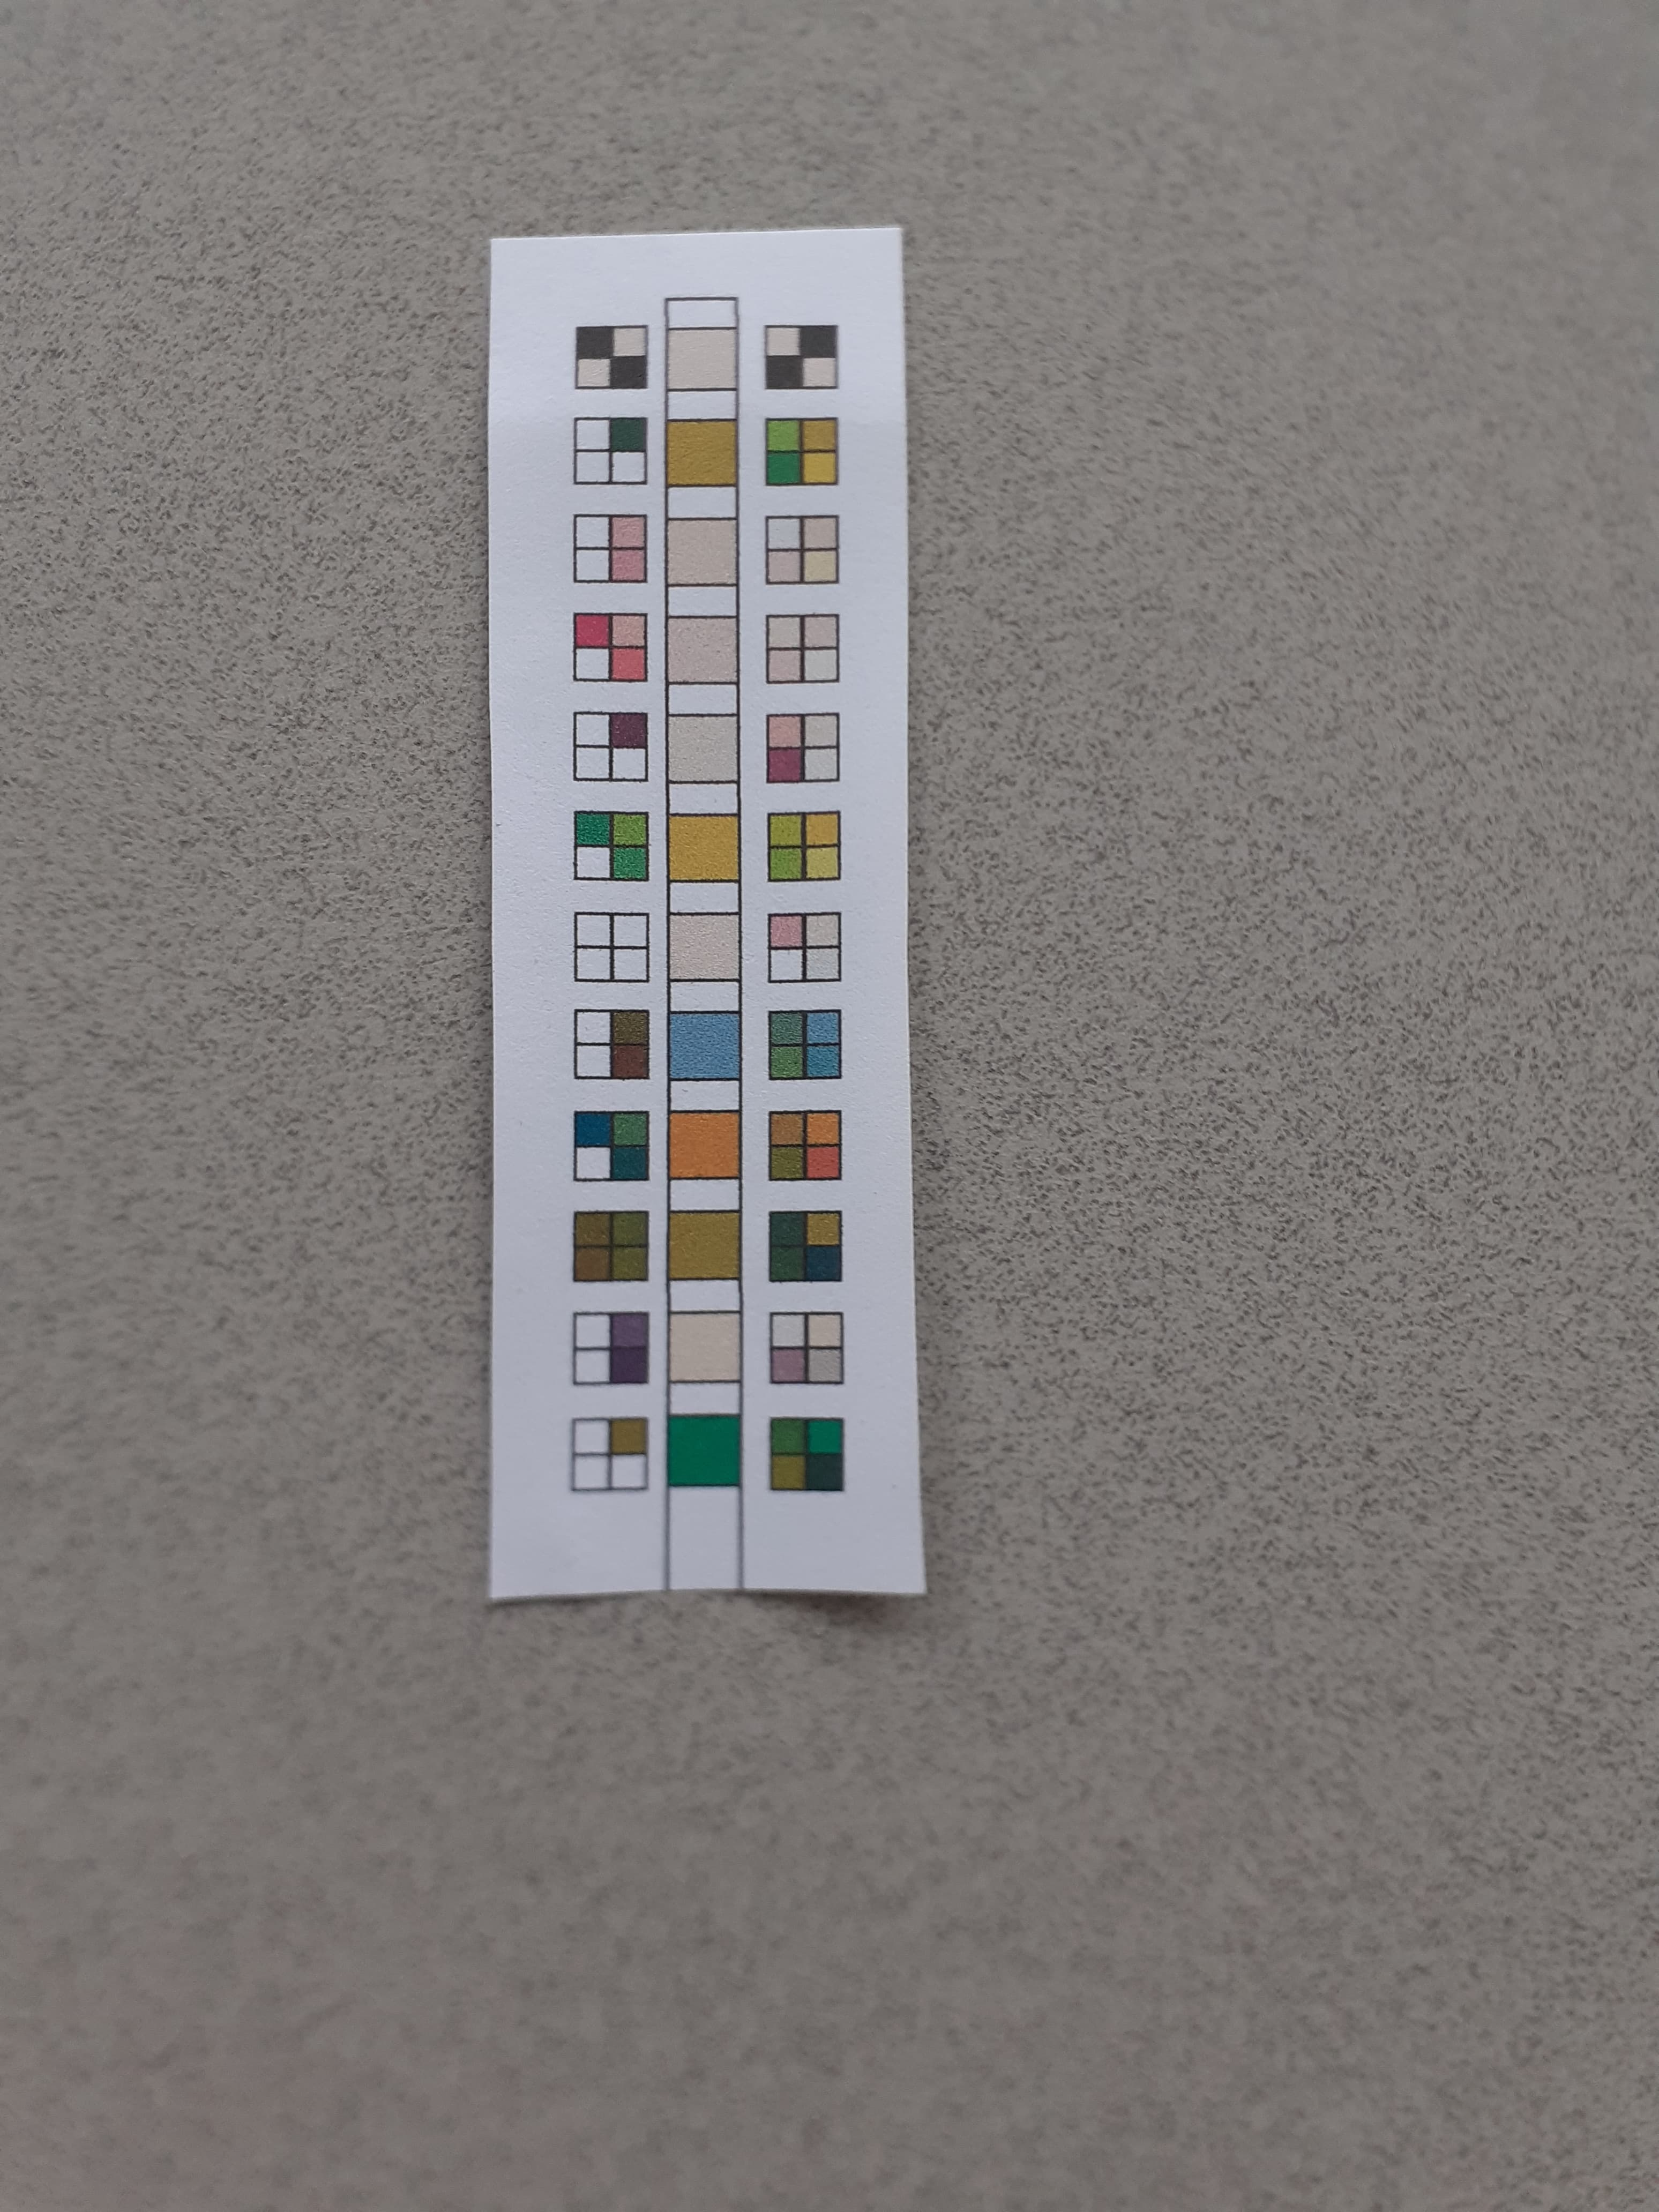tester: (488, 230, 929, 1604)
